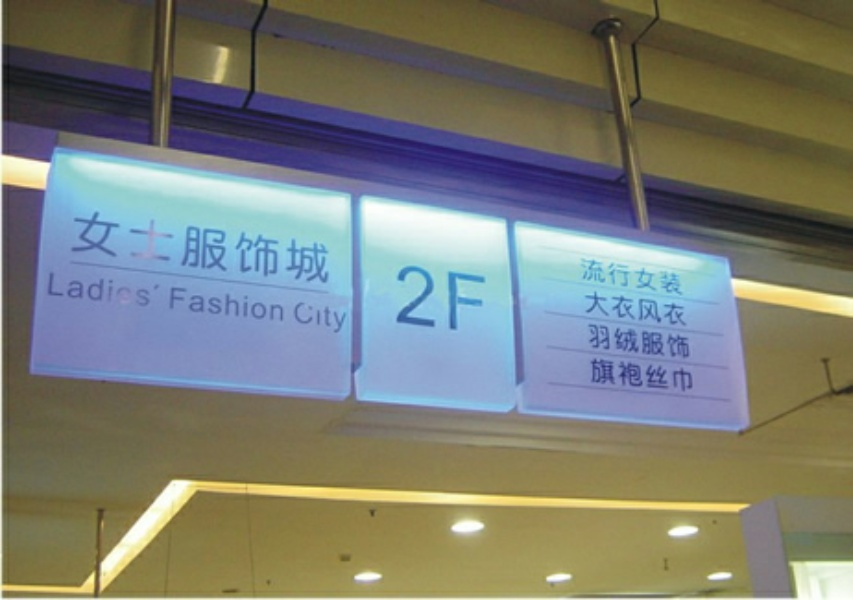text: (81, 207, 96, 285), (97, 207, 112, 285), (113, 207, 128, 285), (129, 207, 144, 285), (145, 207, 160, 285), (161, 207, 176, 285), (177, 207, 192, 285), (193, 207, 208, 285), (209, 207, 224, 285), (225, 207, 240, 285), (241, 207, 256, 285), (257, 207, 272, 285), (273, 207, 288, 285), (289, 207, 304, 285), (305, 207, 320, 285), (401, 263, 416, 337), (417, 263, 432, 337), (433, 263, 448, 337), (449, 263, 464, 337), (465, 263, 480, 337), (321, 207, 333, 285), (145, 268, 161, 313), (65, 268, 80, 313), (81, 268, 96, 313), (97, 268, 112, 313), (113, 268, 128, 313), (129, 268, 144, 313), (481, 263, 490, 337), (673, 289, 689, 329), (273, 285, 289, 325), (50, 268, 64, 313), (593, 289, 608, 329), (609, 289, 624, 329), (625, 289, 640, 329), (641, 289, 656, 329), (657, 289, 672, 329), (593, 322, 608, 362), (609, 322, 624, 362), (625, 322, 640, 362), (641, 322, 656, 362), (657, 322, 672, 362), (673, 322, 688, 362), (177, 285, 192, 325), (193, 285, 208, 325), (209, 285, 224, 325), (225, 285, 240, 325), (241, 285, 256, 325), (257, 285, 272, 325), (593, 257, 608, 296), (609, 257, 624, 296), (625, 257, 640, 296), (641, 257, 656, 296), (657, 257, 672, 296), (593, 357, 608, 394), (609, 357, 624, 394), (625, 357, 640, 394), (641, 357, 656, 394), (657, 357, 672, 394), (673, 357, 688, 394), (305, 300, 320, 337), (321, 300, 336, 337), (578, 257, 592, 296), (673, 257, 685, 296), (337, 300, 349, 337), (76, 207, 80, 285), (689, 357, 697, 394), (296, 300, 304, 337), (586, 289, 592, 329), (689, 322, 695, 362), (397, 263, 400, 337), (588, 322, 592, 362), (172, 285, 176, 325), (591, 357, 592, 394)
